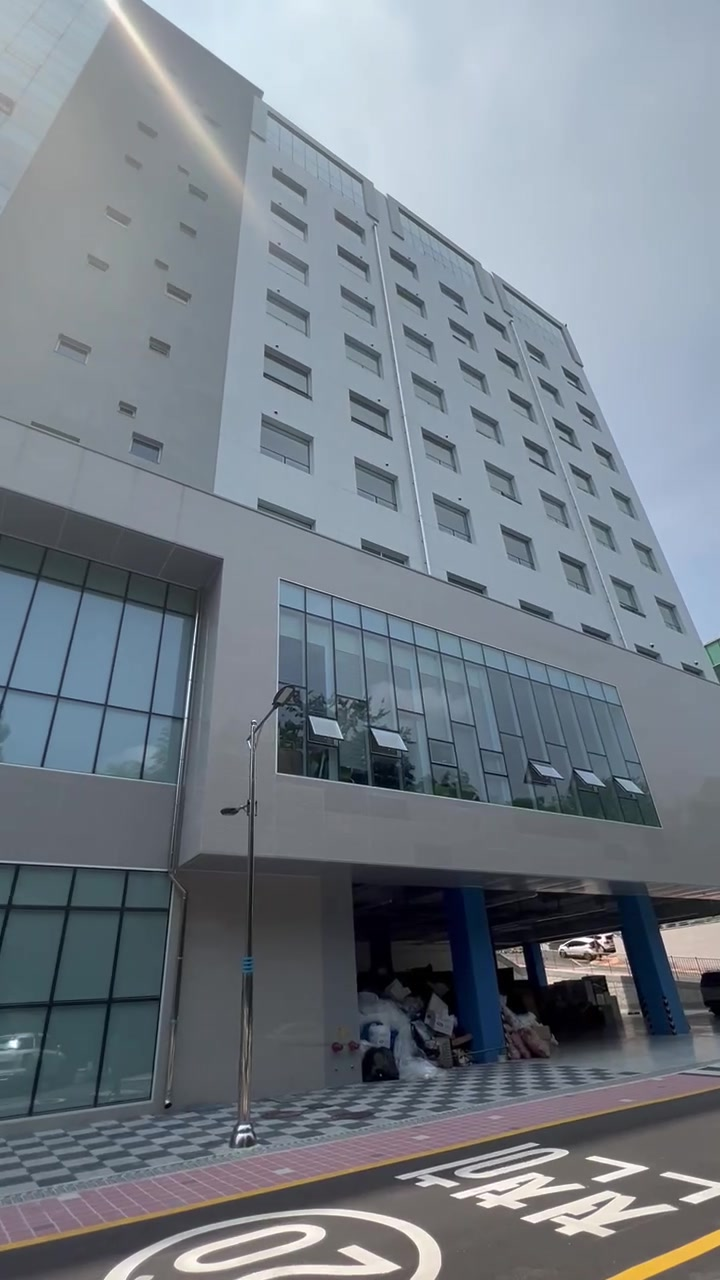medium: (44, 64, 720, 886)
